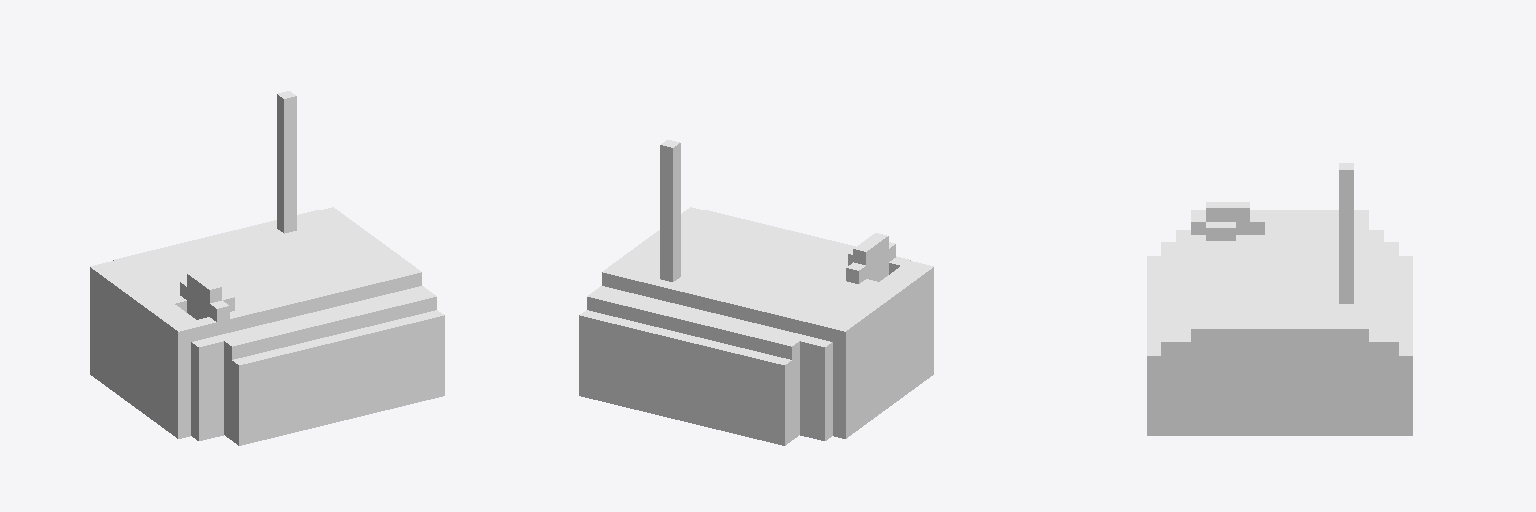
Rendered from mouseBase-1.obj.
3 renders of one model, left to right at view 1: azimuth 30°, elevation 25°; view 2: azimuth 150°, elevation 25°; view 3: azimuth 270°, elevation 25°, orthographic.
Visible parts, largest first — view 1: mouseBase-1; view 2: mouseBase-1; view 3: mouseBase-1.
Part boxes in pixels (bbox=[...]): mouseBase-1: bbox=[90, 91, 444, 445]; mouseBase-1: bbox=[579, 140, 933, 445]; mouseBase-1: bbox=[1147, 163, 1412, 435].
Size of the model in its own units: 19 by 18 by 18.